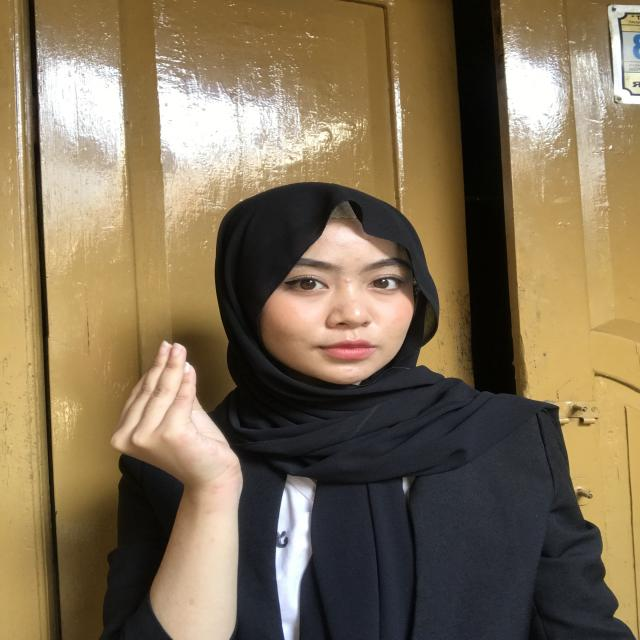kapan: (94, 330, 259, 572)
